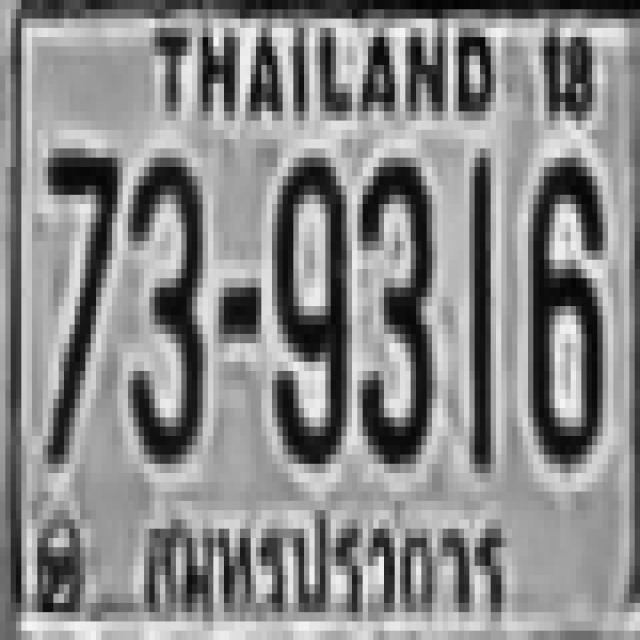1: (467, 153, 488, 468)
3: (125, 148, 200, 454), (355, 148, 429, 454)
6: (525, 148, 600, 454)
7: (43, 144, 117, 459)
9: (269, 148, 344, 464)
SamutPrakan: (130, 478, 522, 632)
